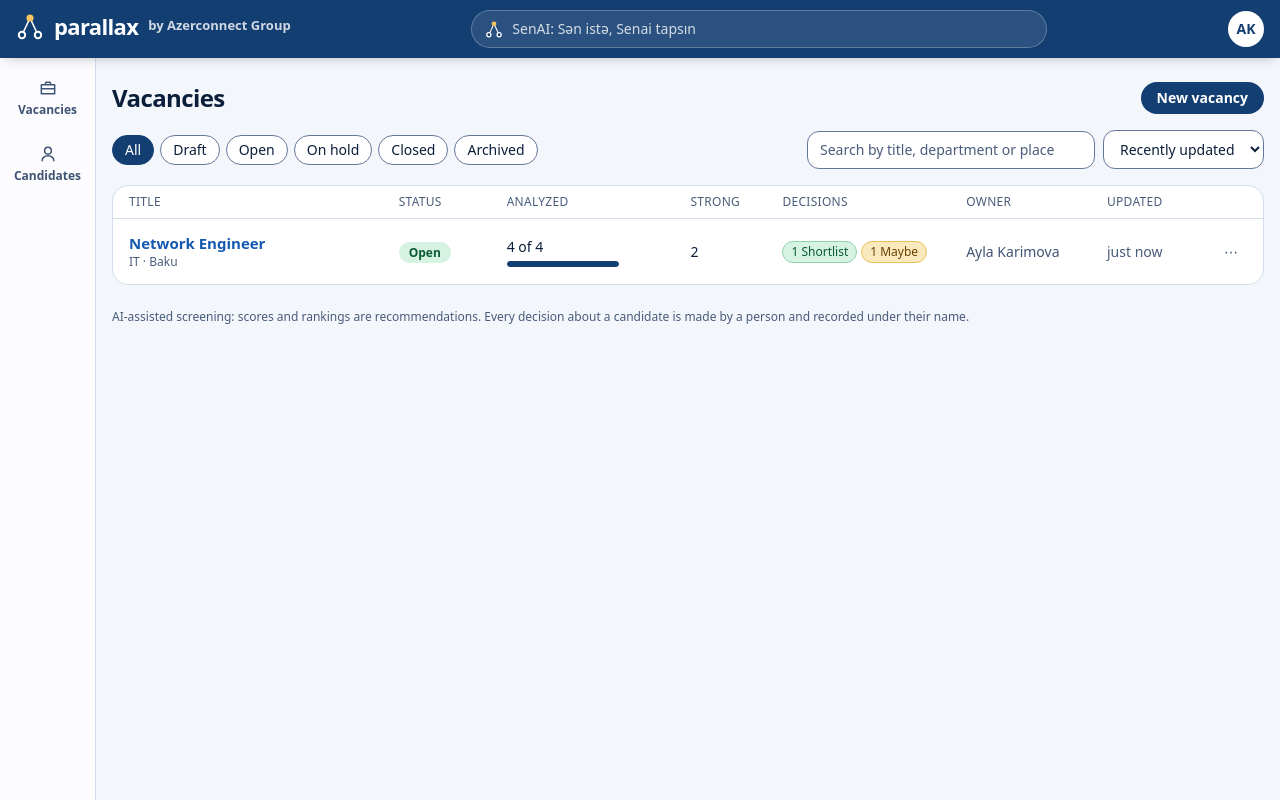
Test: SenAI Ask bar › offers "Analyze for this vacancy" only as a button, and says when it was added
Step 1. Type "rediscover candidates for Network Engineer" into the field with placeholder "SenAI: Sən istə, Senai tapsın" → (759,29), box [471,10,1047,48]
Then press Enter
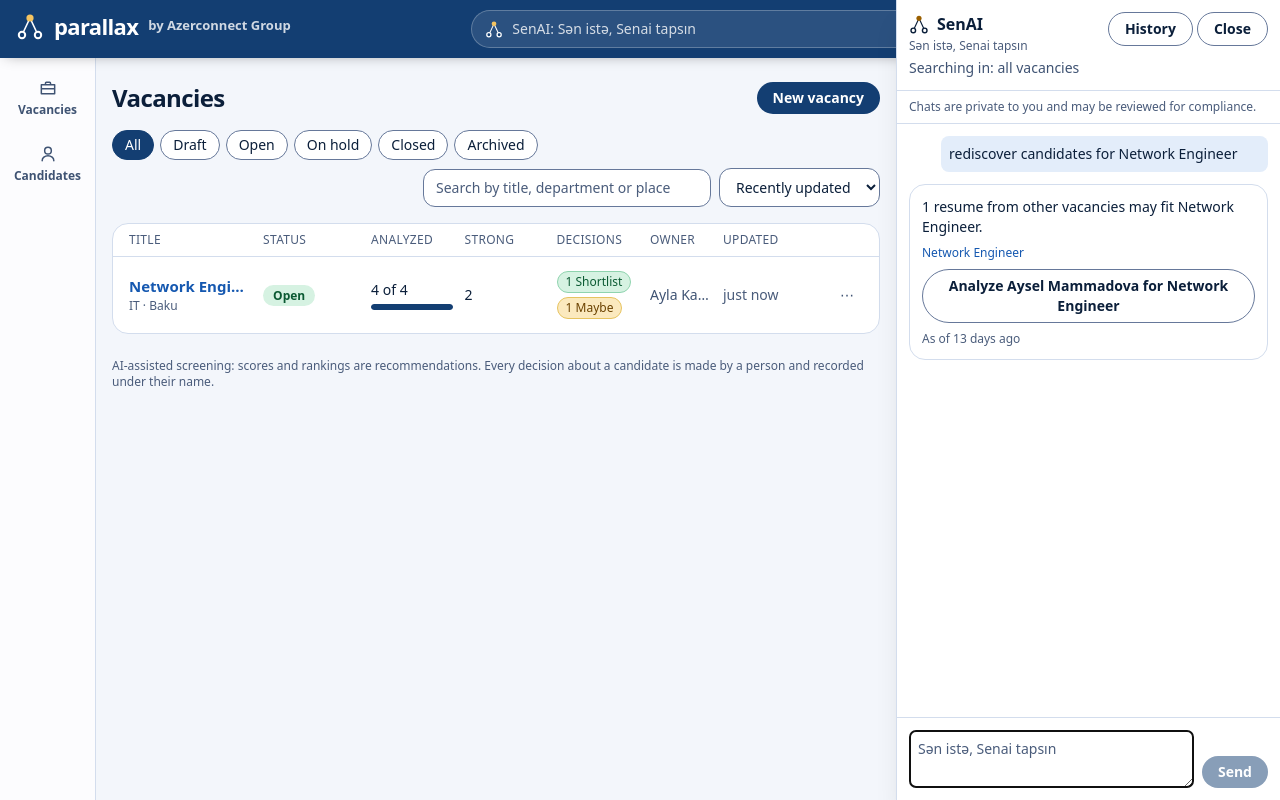
Step 2. Click the button "Analyze Aysel Mammadova for Network Engineer" → (1088,296), box [922,269,1255,323]
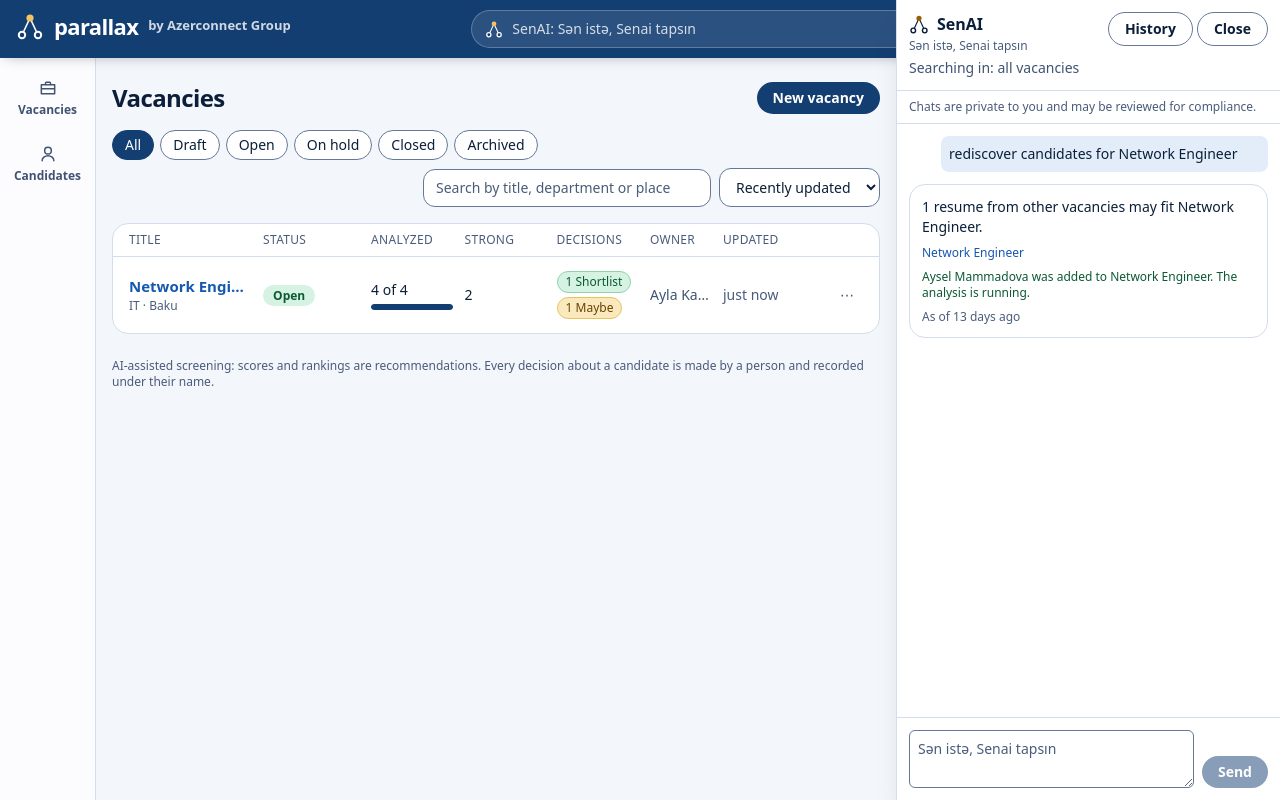
Expected: the text "Aysel Mammadova was added to Network Engineer. The analysis is running." is shown, [922,269,1255,301]
